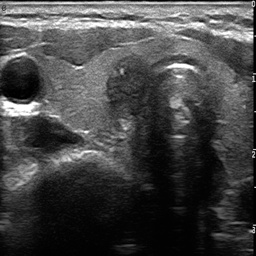mass: (106, 53, 154, 125)
